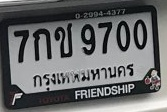num7: (13, 29, 30, 63)
txt01: (32, 28, 53, 62)
txt08: (53, 22, 75, 59)
